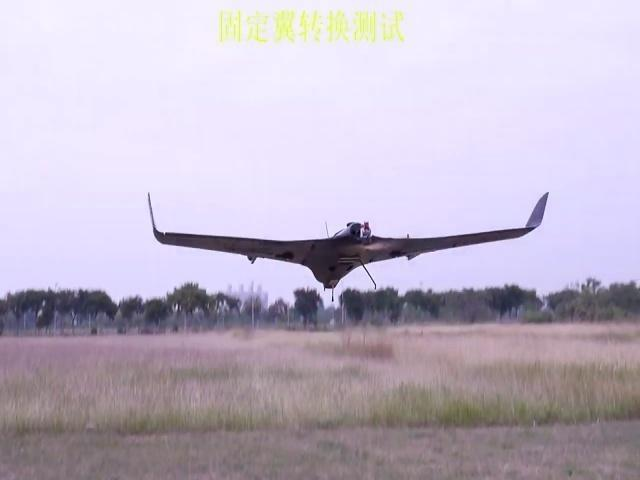Airplane: (147, 191, 548, 303)
